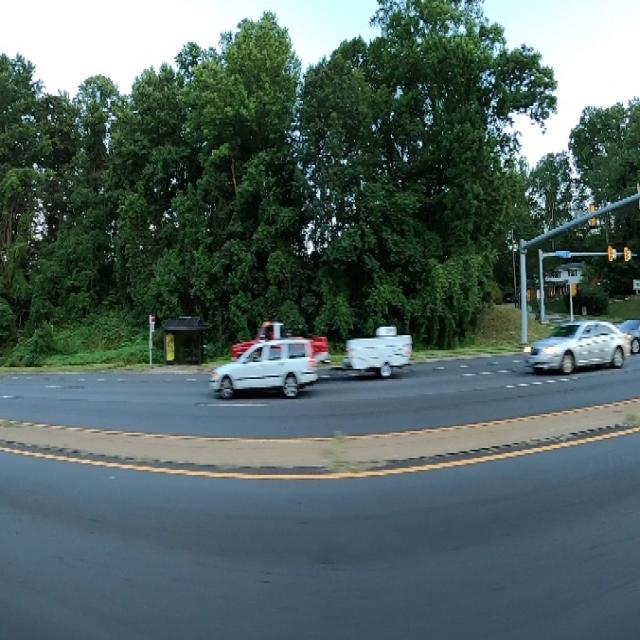cars: (211, 333, 313, 402), (228, 318, 329, 377), (524, 323, 632, 377), (611, 316, 640, 358)
